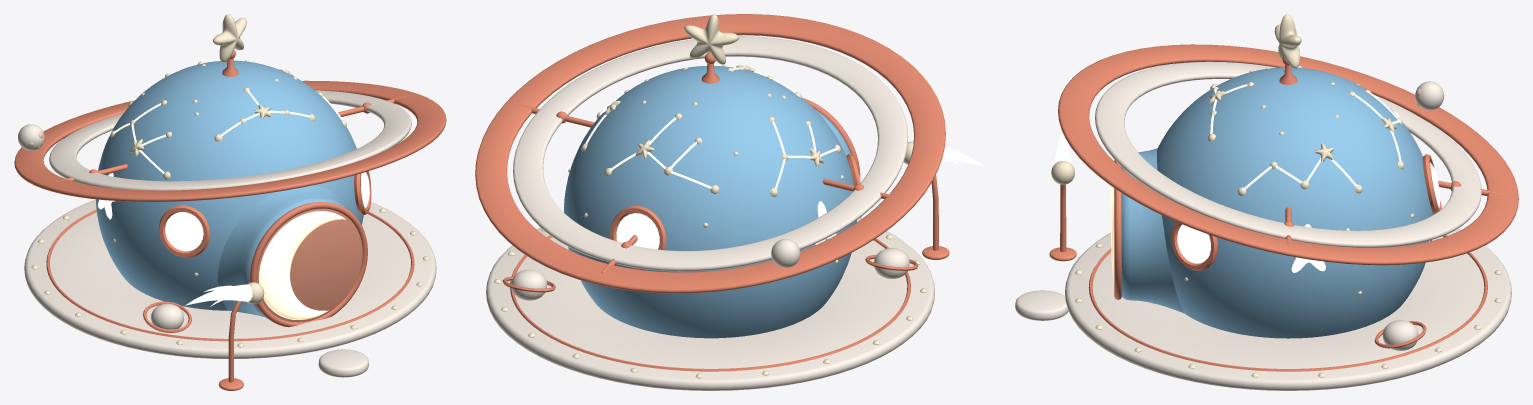
The model's file is house_07_0704.fbx.
3 views of the same model, side by side, from view 1: azimuth 30°, elevation 25°; view 2: azimuth 150°, elevation 25°; view 3: azimuth 270°, elevation 25° (orthographic). The views are drawn at different scales.
Parts seen in each view (by area): view 1: House07_PlanetDome, House07_RingDeck_Engawa, House07_PlanetRing_Outer, House07_PlanetRing_Inner, House07_MoonDisc, House07_EntrancePod, House07_CrescentDoor, House07_MoonDiscRim, House07_DeckGoldInlay, House07_RoundWindows, House07_WindowRims, House07_MoonStep (+10 smaller); view 2: House07_PlanetDome, House07_RingDeck_Engawa, House07_PlanetRing_Outer, House07_PlanetRing_Inner, House07_DeckGoldInlay, House07_PlanetStools, House07_TopStar, House07_ConstellationLines, House07_RoundWindows, House07_WindowRims, House07_RingSupports, House07_ConstellationDots (+6 smaller); view 3: House07_PlanetDome, House07_RingDeck_Engawa, House07_PlanetRing_Outer, House07_PlanetRing_Inner, House07_EntrancePod, House07_DeckGoldInlay, House07_MoonStep, House07_RoundWindows, House07_WindowRims, House07_TopStar, House07_MoonDiscRim, House07_ConstellationLines (+6 smaller).
Boxes of the visible parts, x1,y1,x2,y2 form: House07_PlanetDome: [96, 60, 363, 310]; House07_RingDeck_Engawa: [24, 199, 436, 358]; House07_PlanetRing_Outer: [14, 80, 446, 201]; House07_PlanetRing_Inner: [49, 90, 411, 190]; House07_MoonDisc: [257, 208, 362, 322]; House07_EntrancePod: [217, 185, 347, 318]; House07_CrescentDoor: [259, 211, 345, 319]; House07_MoonDiscRim: [250, 202, 367, 327]; House07_DeckGoldInlay: [46, 209, 414, 341]; House07_RoundWindows: [165, 172, 369, 251]; House07_WindowRims: [159, 171, 371, 257]; House07_MoonStep: [318, 349, 368, 377]; House07_PlanetDome: [564, 66, 856, 338]; House07_RingDeck_Engawa: [486, 218, 934, 390]; House07_PlanetRing_Outer: [475, 14, 945, 293]; House07_PlanetRing_Inner: [513, 36, 908, 271]; House07_DeckGoldInlay: [510, 235, 910, 371]; House07_PlanetStools: [511, 248, 909, 300]; House07_TopStar: [684, 14, 738, 64]; House07_ConstellationLines: [585, 66, 837, 188]; House07_RoundWindows: [616, 175, 860, 249]; House07_WindowRims: [610, 154, 860, 269]; House07_RingSupports: [518, 104, 902, 272]; House07_ConstellationDots: [568, 65, 843, 263]; House07_PlanetDome: [1157, 67, 1433, 338]; House07_RingDeck_Engawa: [1065, 228, 1511, 390]; House07_PlanetRing_Outer: [1058, 44, 1518, 265]; House07_PlanetRing_Inner: [1095, 61, 1481, 247]; House07_EntrancePod: [1121, 148, 1184, 313]; House07_DeckGoldInlay: [1088, 235, 1487, 371]; House07_MoonStep: [1015, 290, 1068, 320]; House07_RoundWindows: [1177, 162, 1440, 263]; House07_WindowRims: [1171, 154, 1441, 270]; House07_TopStar: [1274, 14, 1301, 68]; House07_MoonDiscRim: [1114, 160, 1121, 299]; House07_ConstellationLines: [1210, 84, 1401, 189].
Bounding box in the file's own units: 5.48 × 3.79 × 5.86.
